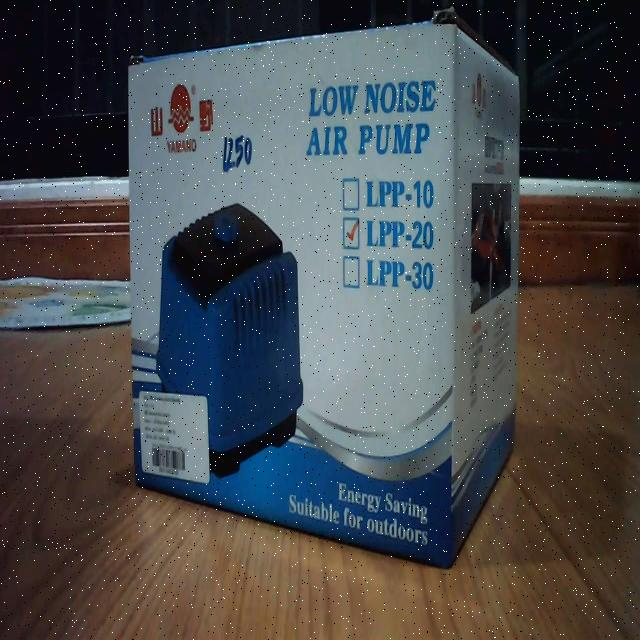YAMANO_LPP_20: (115, 11, 527, 582)
